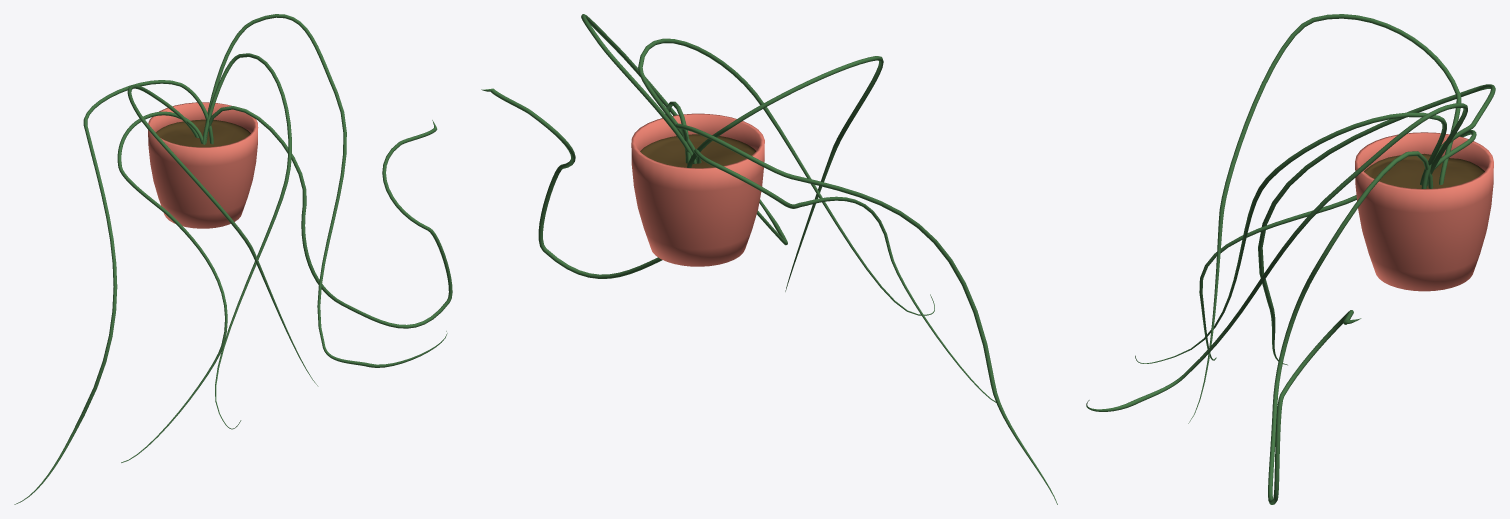
Rendered from house-plant.glb.
The picture shows the model from 3 angles, left to right: view 1: azimuth 30°, elevation 25°; view 2: azimuth 150°, elevation 25°; view 3: azimuth 270°, elevation 25°; orthographic projection. The views are drawn at different scales.
Visible parts, largest first — view 1: Leaf-Stem, Leaf-Pot; view 2: Leaf-Pot, Leaf-Stem; view 3: Leaf-Pot, Leaf-Stem.
Boxes of the visible parts, bbox=[...] form: Leaf-Stem: bbox=[14, 14, 452, 504]; Leaf-Pot: bbox=[148, 102, 258, 228]; Leaf-Pot: bbox=[631, 113, 764, 266]; Leaf-Stem: bbox=[481, 14, 1057, 504]; Leaf-Pot: bbox=[1355, 132, 1493, 291]; Leaf-Stem: bbox=[1086, 14, 1495, 504].
Size of the model in its own units: 0.5429 by 0.4244 by 0.3426.
